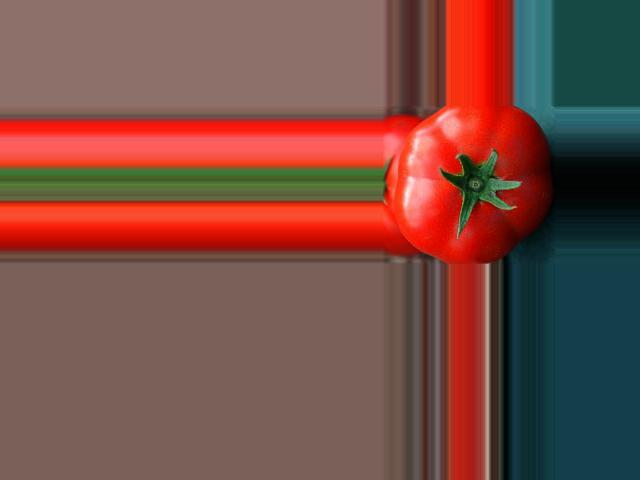tomato: (393, 105, 552, 265)
